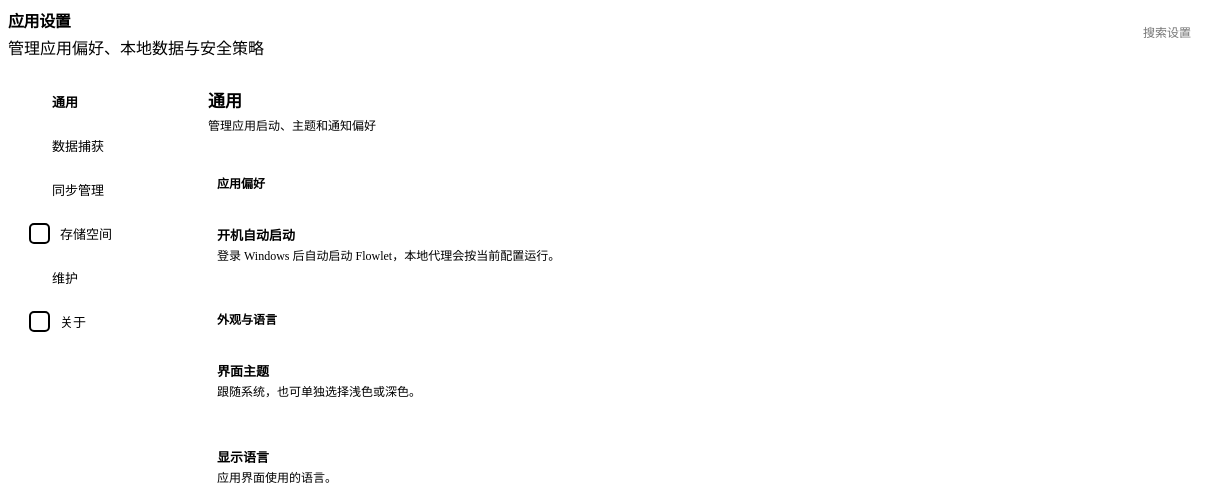
Test case: SettingsDemoView › switches between populated settings categories
This screenshot has width=1208, height=500.
Check: the text "开机自动启动" is shown, box [217,228,295,243]
Step 1. Click the button "数据捕获" → (98, 145), box [18,125,178,165]
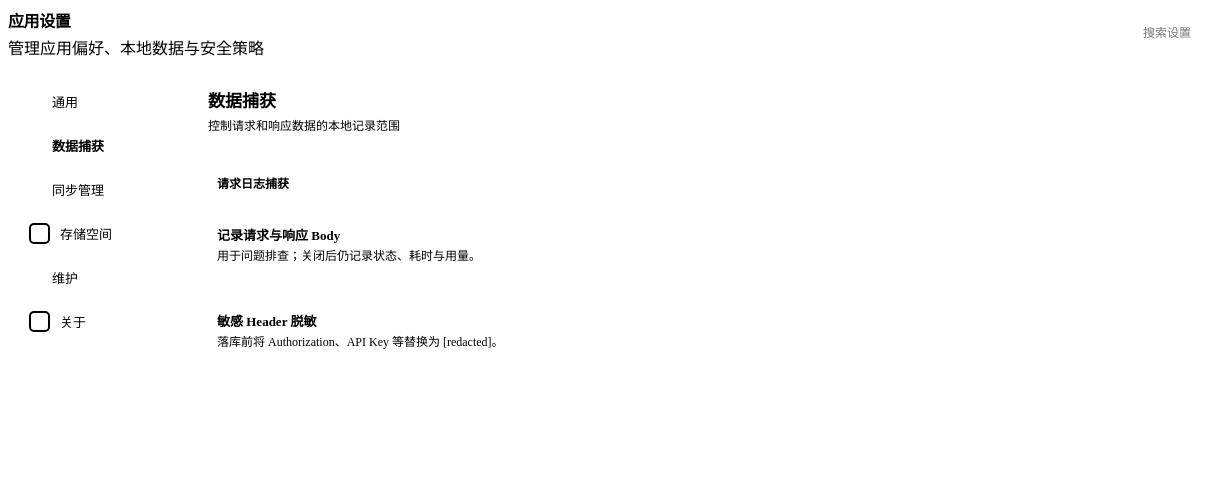
Check: the text "记录请求与响应 Body" is shown, box [217,228,340,243]
Step 2. Click the button "维护" → (98, 277), box [18,257,178,297]
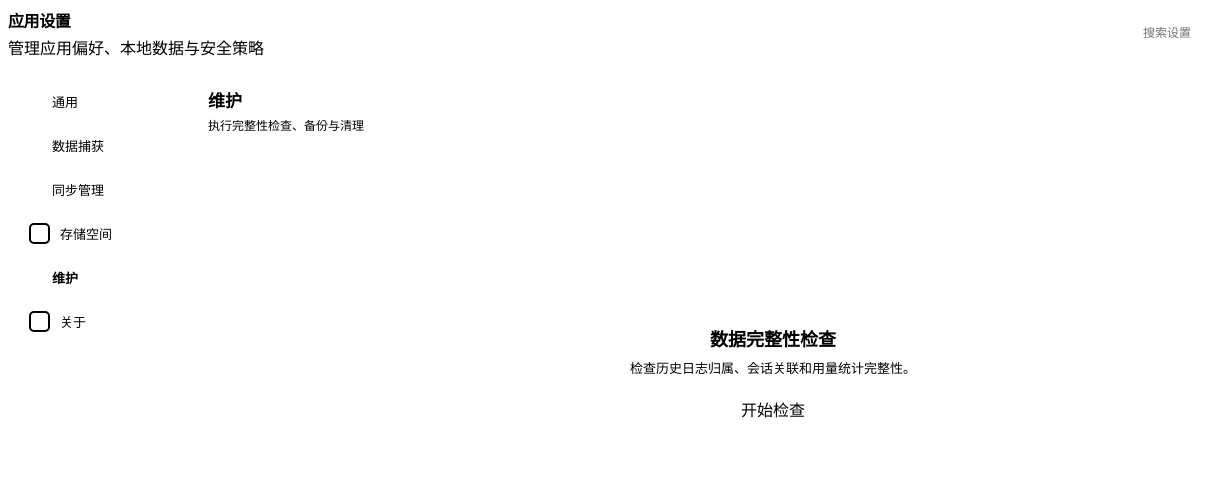
Check: the heading "数据完整性检查" is shown, box [710,325,836,351]
